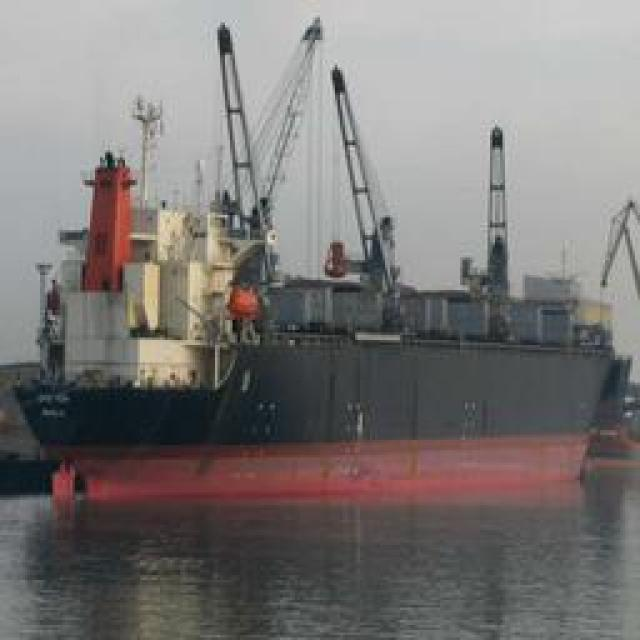CIV_Ship: (20, 14, 628, 518)
